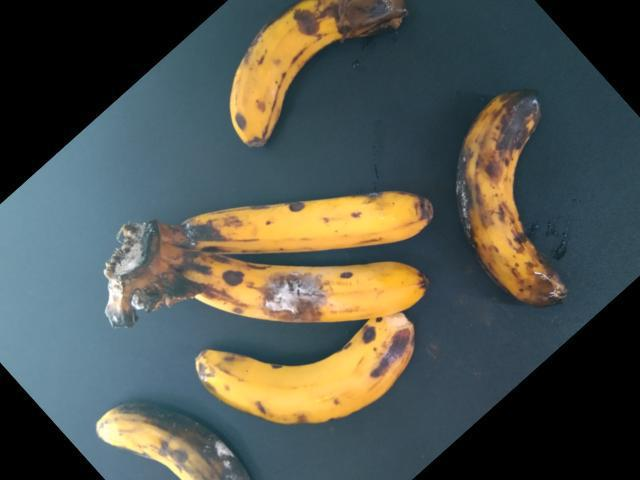ripe: (194, 314, 427, 424), (176, 162, 443, 255)
rotten: (449, 79, 603, 342), (210, 0, 430, 147), (86, 394, 248, 479)
